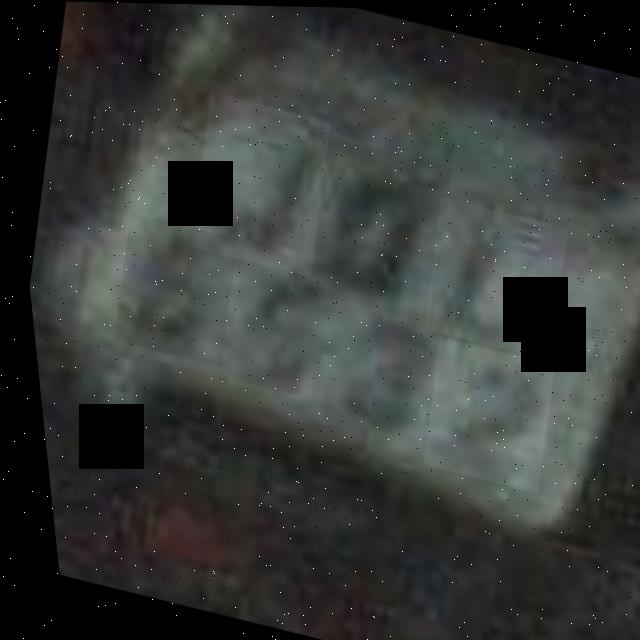6: (96, 211, 242, 366)
7: (402, 334, 557, 491)
J: (173, 90, 341, 276), (406, 194, 573, 358)
M: (273, 131, 461, 321)
